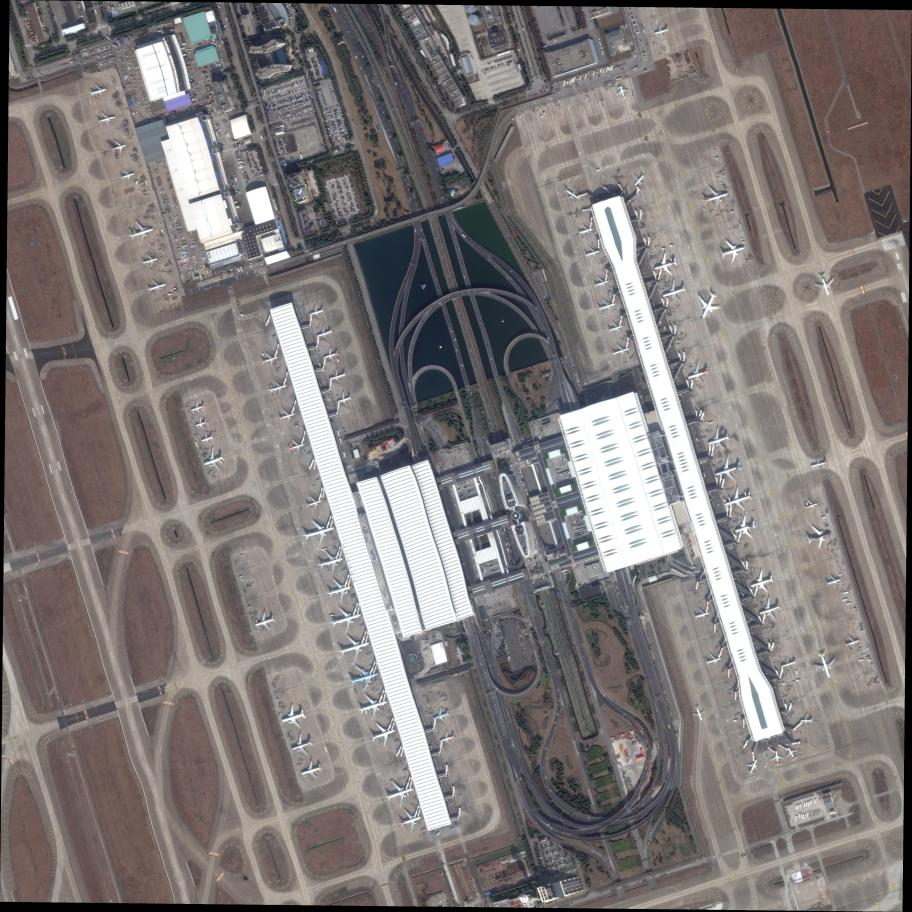plane: (299, 515, 338, 551), (691, 287, 725, 322), (347, 662, 382, 695), (383, 778, 417, 810), (338, 633, 373, 664), (330, 604, 365, 635), (696, 182, 731, 213), (723, 483, 755, 516), (712, 452, 745, 484), (356, 691, 390, 722), (279, 700, 310, 733), (716, 235, 749, 266), (650, 250, 681, 281), (125, 218, 157, 248), (731, 513, 761, 544), (369, 720, 399, 750), (810, 650, 840, 680), (316, 548, 347, 577), (747, 567, 777, 596), (325, 577, 355, 605), (756, 594, 784, 624), (705, 426, 734, 454), (684, 359, 712, 388), (290, 732, 317, 760), (397, 808, 424, 836), (803, 523, 830, 551), (201, 446, 228, 473), (660, 279, 688, 305), (812, 270, 837, 298), (299, 759, 326, 783), (252, 609, 278, 633), (560, 181, 584, 204), (95, 108, 118, 130), (266, 377, 290, 398), (145, 277, 169, 298), (276, 406, 299, 427), (287, 436, 309, 457), (260, 350, 282, 371), (823, 570, 844, 592), (140, 251, 161, 272), (841, 633, 862, 654), (88, 81, 109, 102), (109, 137, 129, 158), (187, 398, 208, 418), (743, 758, 764, 778), (610, 341, 632, 360), (304, 492, 324, 512), (321, 345, 341, 365), (629, 168, 649, 188), (596, 297, 618, 315), (690, 703, 709, 723), (801, 496, 820, 516), (430, 707, 451, 725), (582, 244, 603, 262), (307, 302, 326, 321), (652, 21, 671, 40), (438, 729, 458, 747), (692, 606, 712, 624), (784, 743, 802, 763), (315, 325, 334, 343), (335, 390, 353, 409), (810, 455, 829, 473), (704, 653, 723, 671), (779, 654, 798, 672), (328, 368, 348, 385), (606, 319, 626, 336), (119, 167, 137, 185), (768, 749, 786, 767), (593, 274, 611, 291), (199, 430, 216, 447), (614, 84, 631, 101), (194, 416, 212, 432), (577, 223, 594, 239), (800, 713, 814, 729)
storage-tank: (468, 14, 483, 26)
